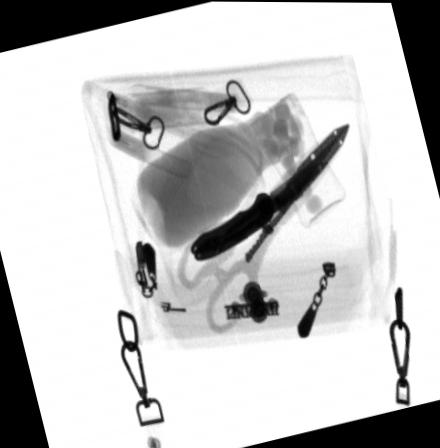Knife: (189, 157, 327, 263)
Scissors: (175, 123, 350, 333)
